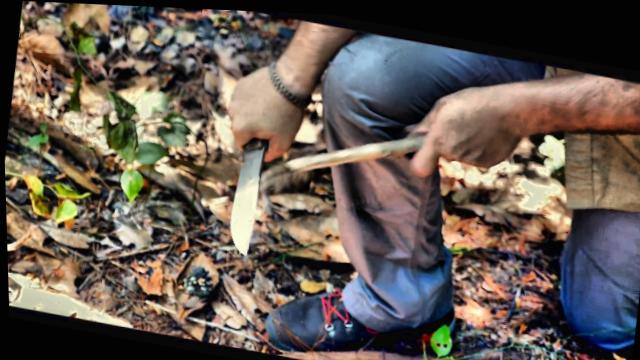knife: (202, 97, 301, 264)
